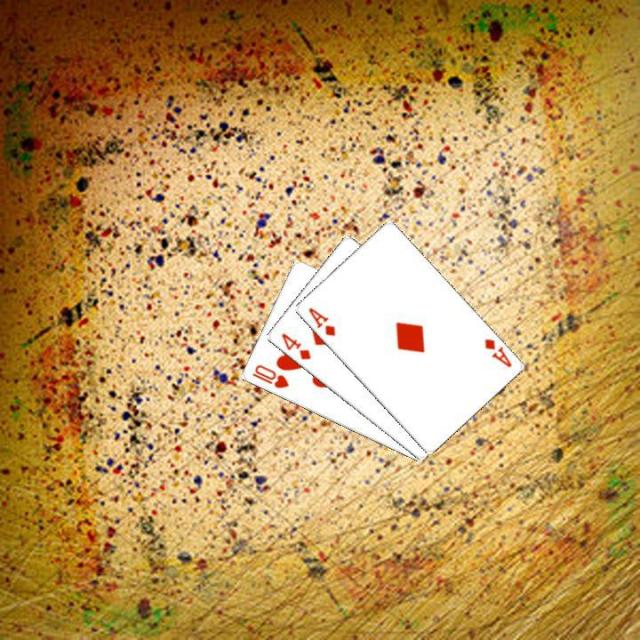10H: (248, 361, 291, 390)
4D: (277, 329, 312, 362)
AD: (304, 303, 337, 338), (480, 334, 513, 369)
